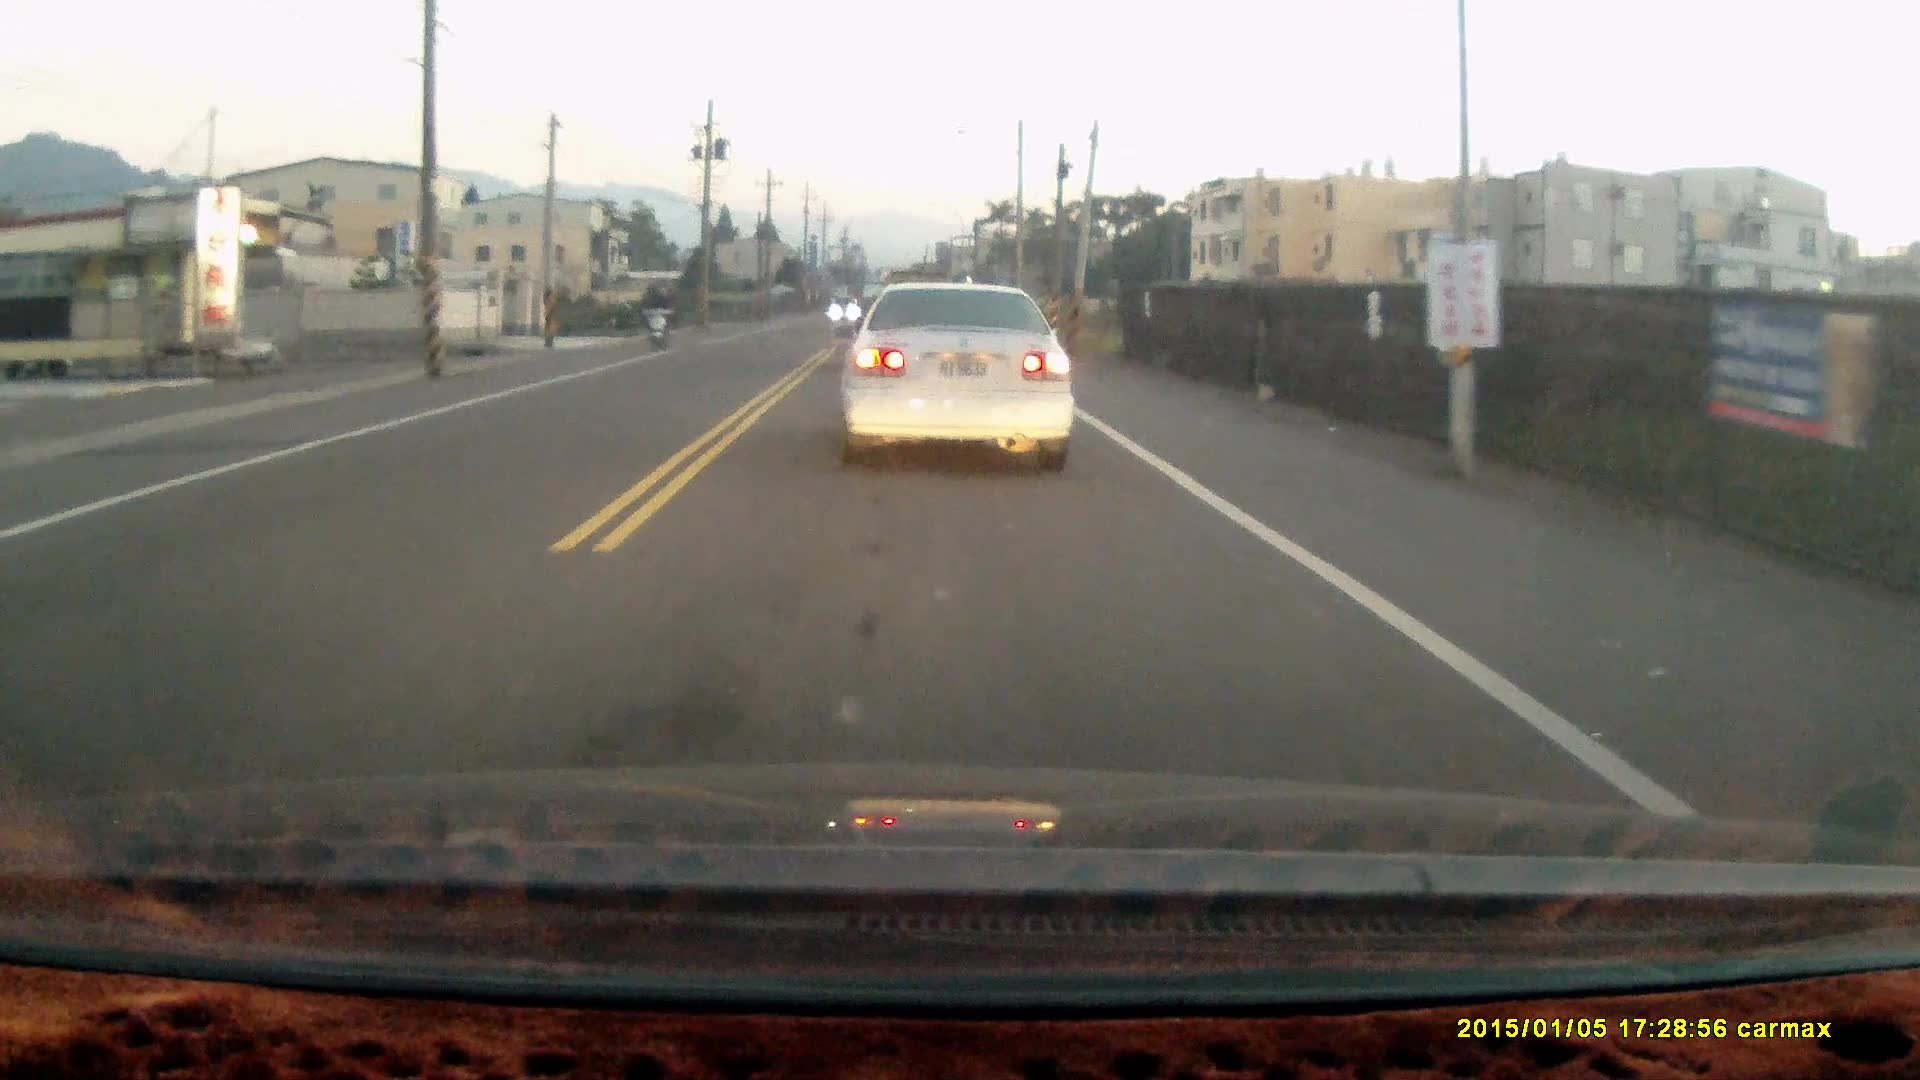rider: (641, 281, 672, 350)
vehicle: (840, 273, 1083, 475)
